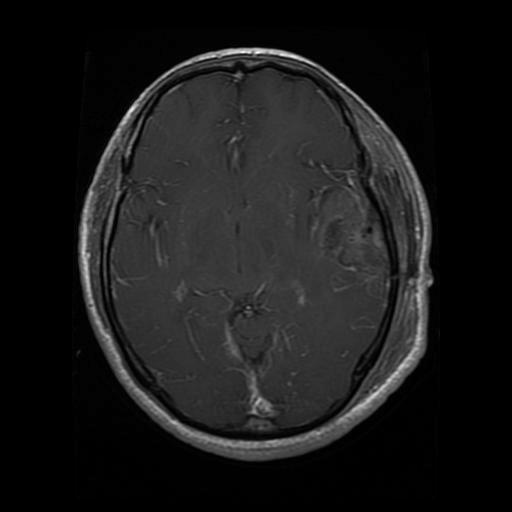Tumour-Glioma: (301, 175, 400, 290)
